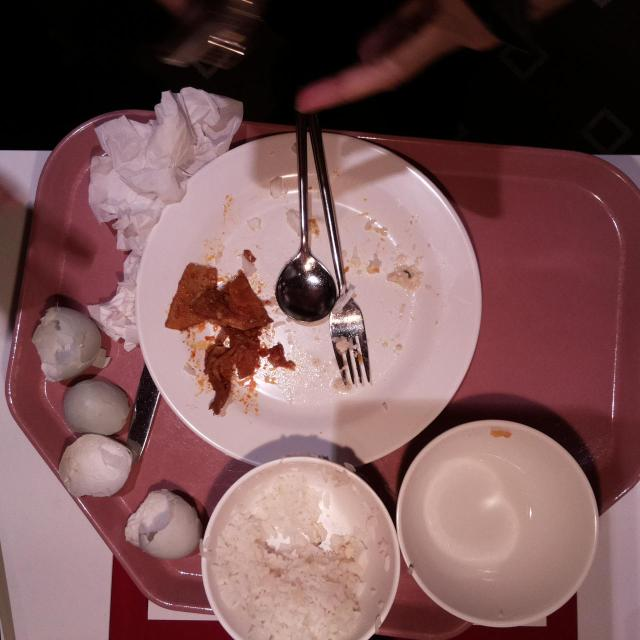Egg-shell: (30, 306, 110, 382), (122, 489, 204, 559), (57, 430, 135, 498), (61, 377, 130, 438)
Meat: (164, 262, 270, 331), (205, 331, 259, 414)
Rice: (210, 475, 360, 639)
